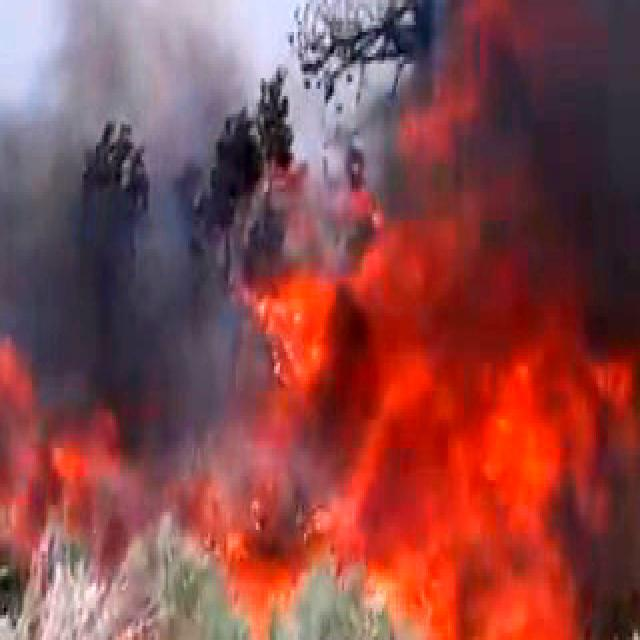fire: (240, 74, 572, 640), (0, 334, 178, 562)
smoke: (0, 0, 216, 274)
